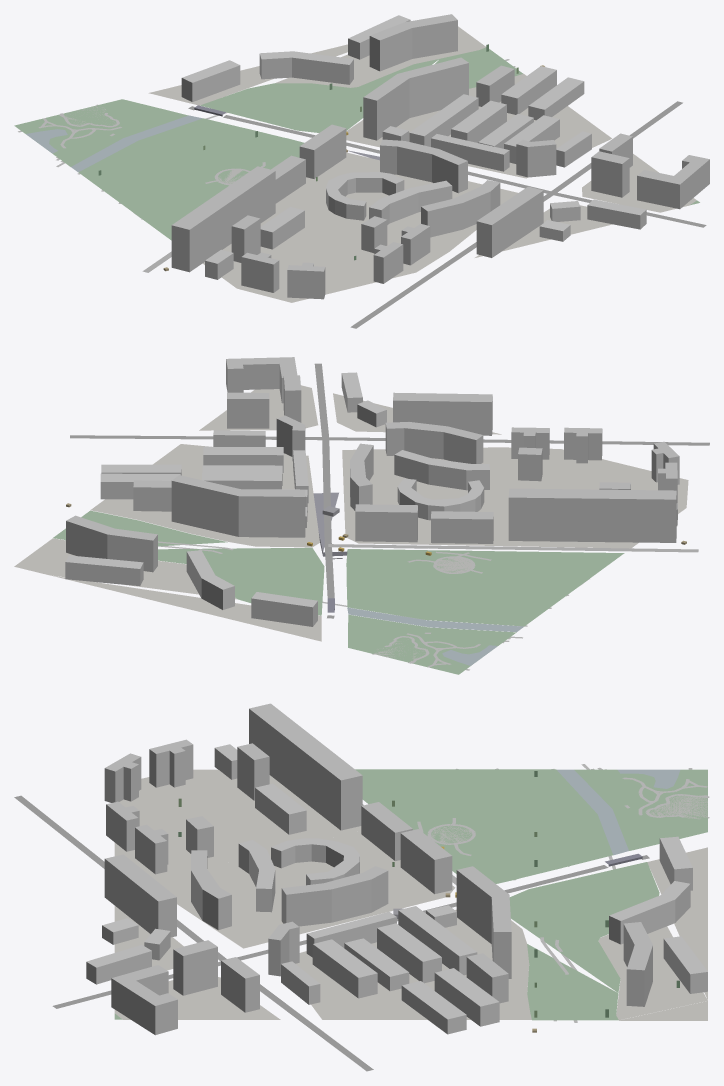
3 views of the same model, one above another, from view 1: azimuth 30°, elevation 25°; view 2: azimuth 150°, elevation 25°; view 3: azimuth 270°, elevation 25° (orthographic). The views are drawn at different scales.
Size of the model in its own units: 664 by 67.55 by 587.
